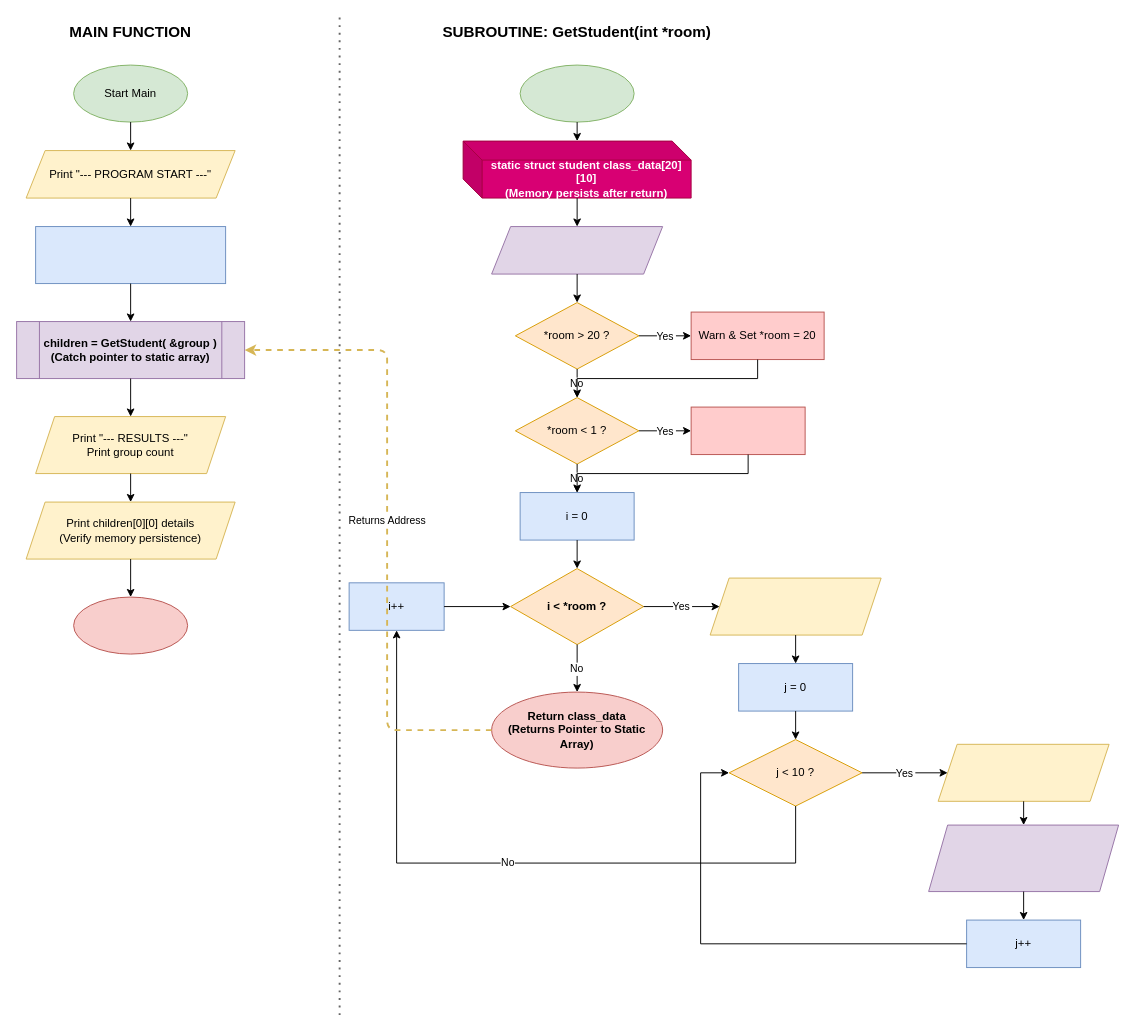
Some shapes in this 1135 by 1033 pixel diagram are drawn without their labels. Each missing label, with the box of its shape:
Declare: struct student (*children)[10] int group: (35, 226, 226, 284)
End Main / return 0: (73, 596, 188, 654)
Print "=== ROOM %d ===": (709, 577, 881, 635)
Print "Student %d/%d...": (937, 743, 1109, 801)
Prompt & Read *room: (491, 226, 663, 274)
Scanf Name, Age, Sex, GPA (Into class_data[i][j]): (928, 824, 1119, 892)
Set *room = 1: (690, 406, 805, 455)
Start GetStudent: (519, 64, 634, 122)
